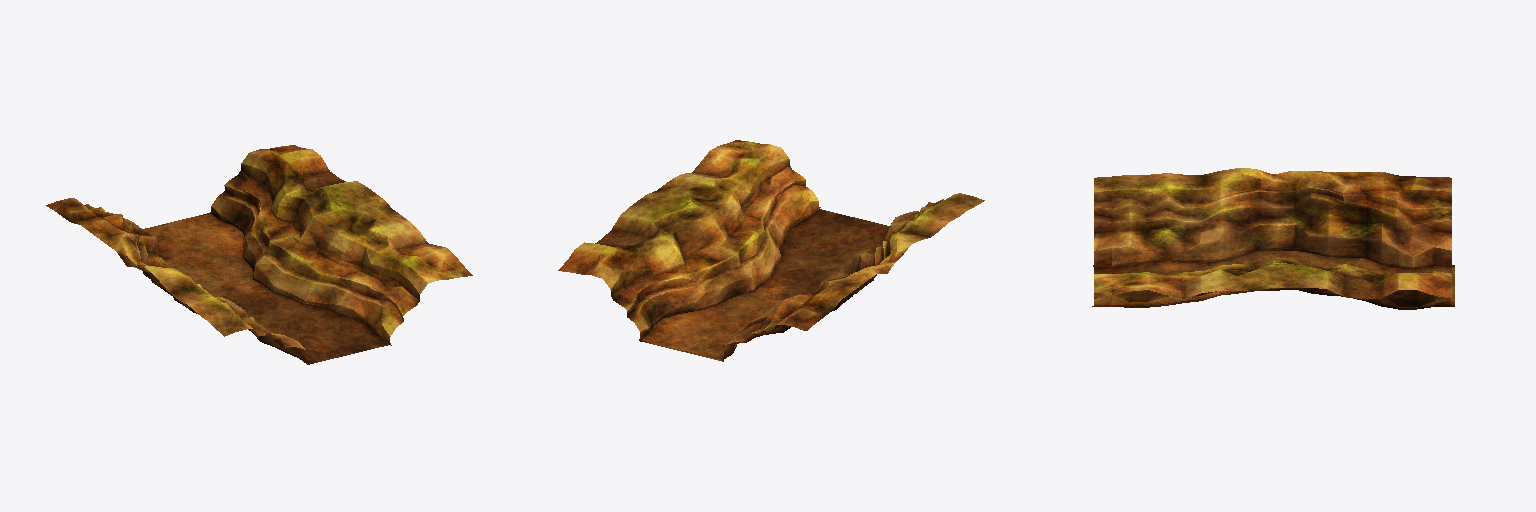
3 views of the same model, side by side, from view 1: azimuth 30°, elevation 25°; view 2: azimuth 150°, elevation 25°; view 3: azimuth 270°, elevation 25° (orthographic).
Visible parts, largest first — view 1: Curved; view 2: Curved; view 3: Curved.
Part boxes in pixels (x1,y1,x2,y2): Curved: (46, 145, 472, 364); Curved: (558, 140, 984, 361); Curved: (1092, 168, 1454, 309).
Size of the model in its own units: 241 by 58.09 by 319.
1 materials, 1 textured.